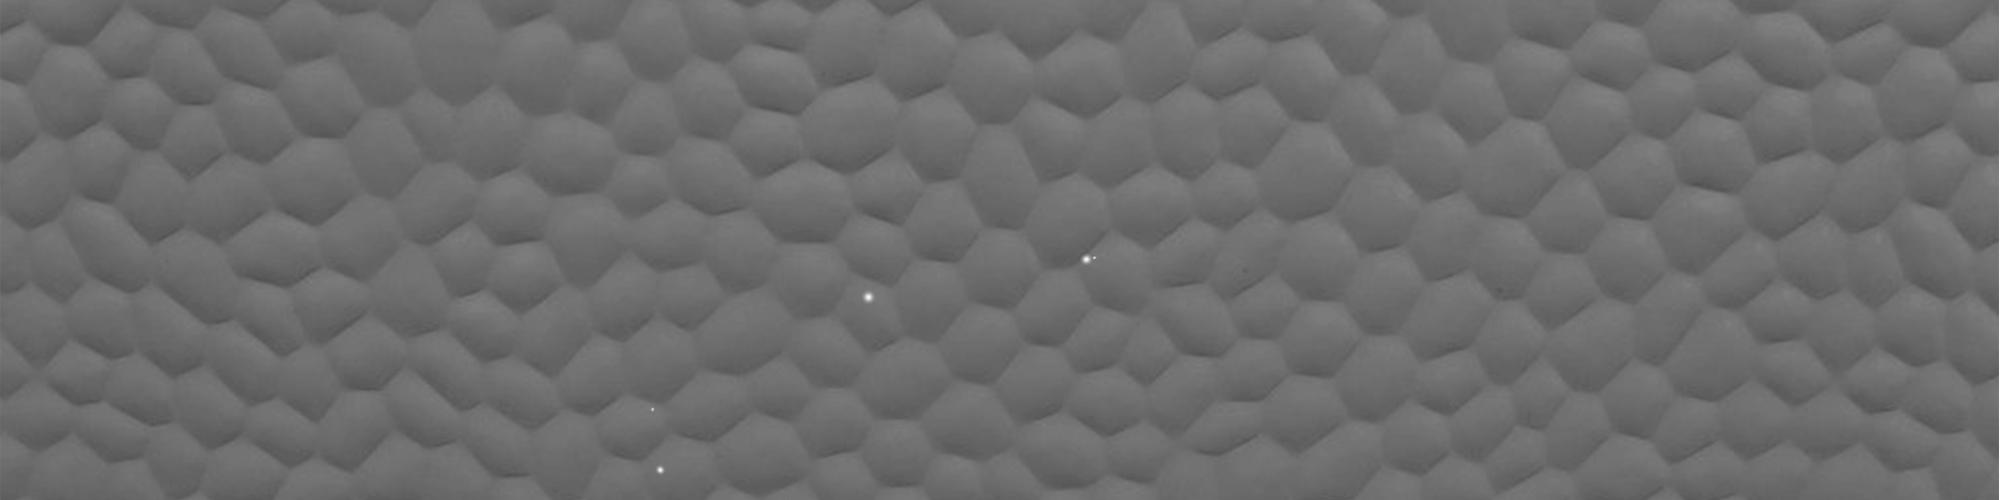Particles: (858, 290, 878, 306), (653, 460, 668, 476), (1077, 253, 1091, 268), (1089, 255, 1099, 261), (649, 406, 659, 412)
